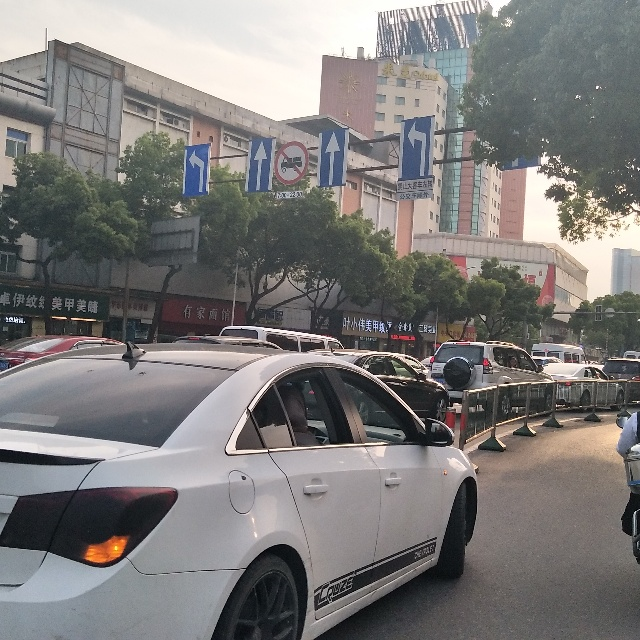left: (398, 116, 434, 179), (182, 144, 211, 195)
straight: (318, 128, 346, 187), (245, 140, 275, 193)
